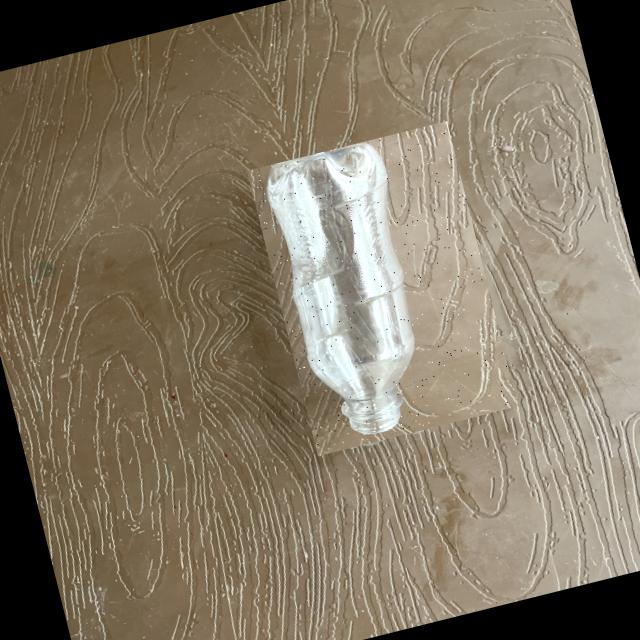PET_ClearBottle: (246, 120, 517, 454)
